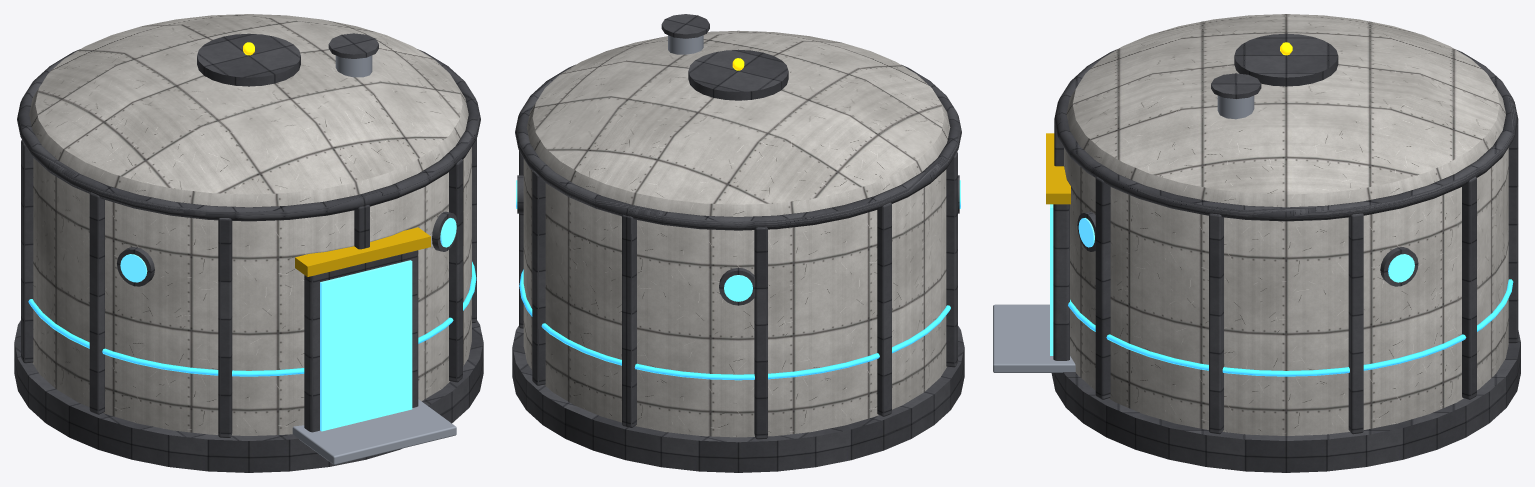
The model's file is HouseCylinder.glb.
The picture shows the model from 3 angles, left to right: view 1: azimuth 30°, elevation 25°; view 2: azimuth 150°, elevation 25°; view 3: azimuth 270°, elevation 25°; orthographic projection. The views are drawn at different scales.
Parts seen in each view (by area): view 1: STO_Cylinder_Mesh; view 2: STO_Cylinder_Mesh; view 3: STO_Cylinder_Mesh.
Boxes of the visible parts, box(x1,y1,x2,y2) form: STO_Cylinder_Mesh: box(14, 14, 483, 472); STO_Cylinder_Mesh: box(512, 14, 964, 472); STO_Cylinder_Mesh: box(993, 14, 1520, 472).
Bounding box in the file's own units: 5.6 × 4.36 × 6.3.
7 materials, 2 textured.
